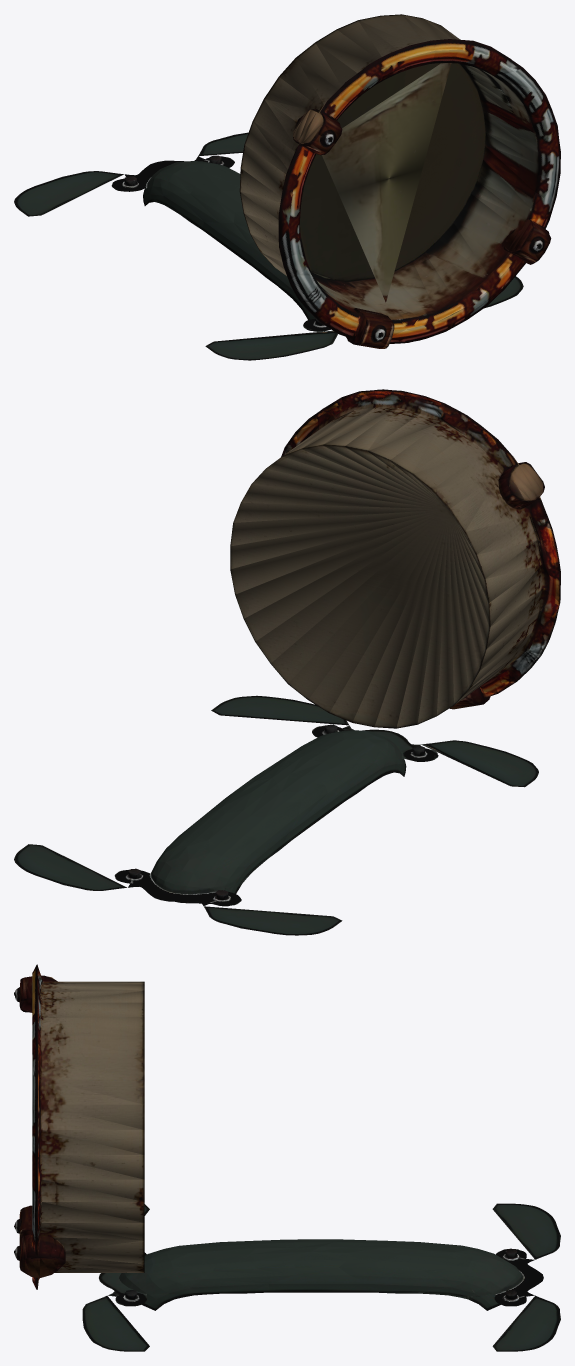
Rendered from side_sidepipes.glb.
3 renders of one model, top to bottom at view 1: azimuth 30°, elevation 25°; view 2: azimuth 150°, elevation 25°; view 3: azimuth 270°, elevation 25°, orthographic. The views are drawn at different scales.
Parts seen in each view (by area): view 1: tripo_node_dd03ddaf-3e8a-4707-9d86-f16636a5cccc; view 2: tripo_node_dd03ddaf-3e8a-4707-9d86-f16636a5cccc; view 3: tripo_node_dd03ddaf-3e8a-4707-9d86-f16636a5cccc.
Part boxes in pixels (x1,y1,x2,y2): tripo_node_dd03ddaf-3e8a-4707-9d86-f16636a5cccc: [14, 14, 560, 360]; tripo_node_dd03ddaf-3e8a-4707-9d86-f16636a5cccc: [14, 389, 560, 935]; tripo_node_dd03ddaf-3e8a-4707-9d86-f16636a5cccc: [14, 964, 560, 1351].
Bounding box in the file's own units: 0.6387 × 0.6348 × 0.9983.
Materials: 1 (1 with a texture image).
